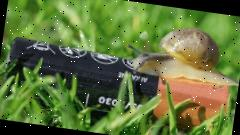electronic: (0, 32, 239, 135)
